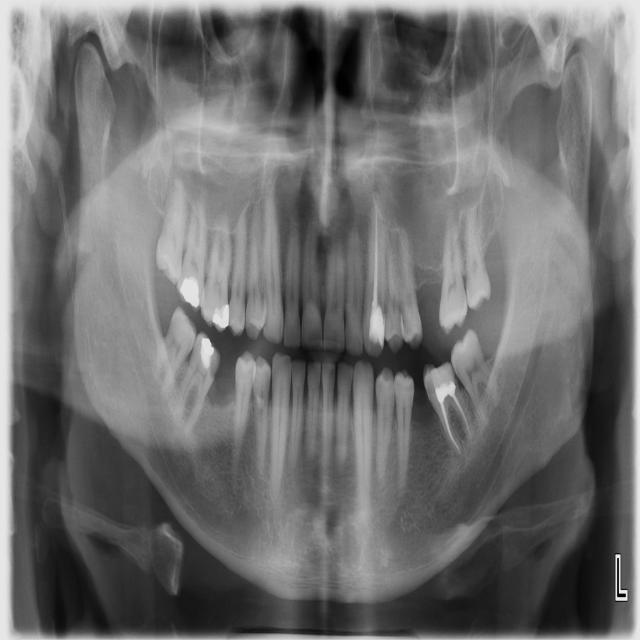mandibula: (74, 43, 596, 603)
